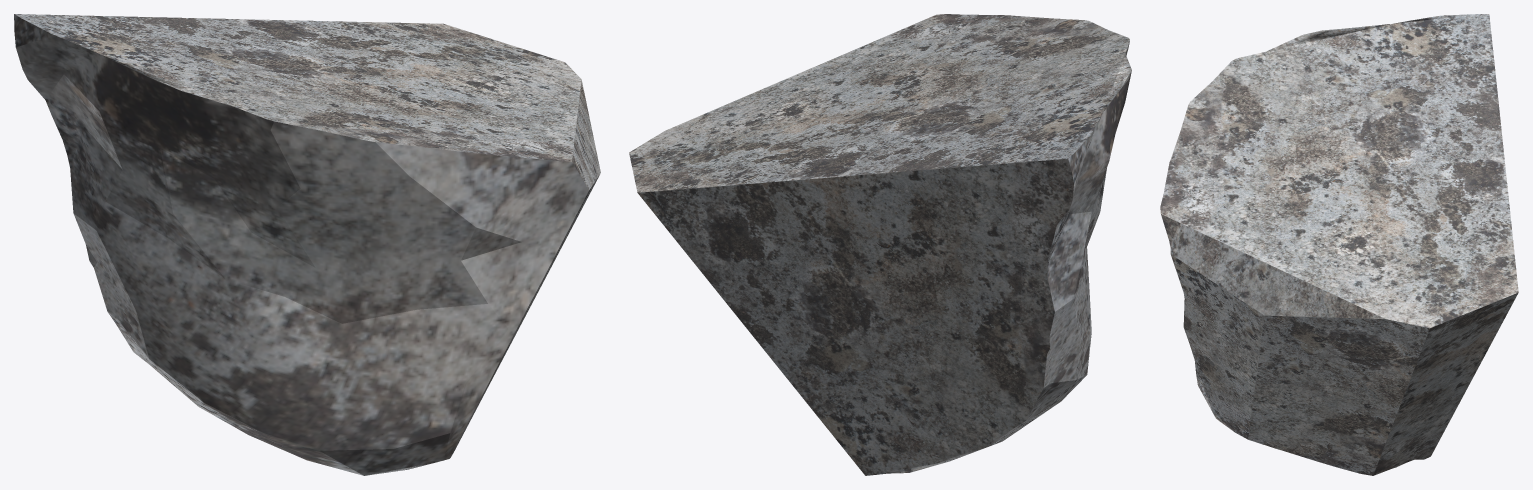
File: Asteroid_Large_001_02_002.fbx
3 views of the same model, side by side, from view 1: azimuth 30°, elevation 25°; view 2: azimuth 150°, elevation 25°; view 3: azimuth 270°, elevation 25° (orthographic). The views are drawn at different scales.
Parts seen in each view (by area): view 1: Asteroid_Large_001_02_002; view 2: Asteroid_Large_001_02_002; view 3: Asteroid_Large_001_02_002.
Boxes of the visible parts, x1,y1,x2,y2 form: Asteroid_Large_001_02_002: [14, 14, 600, 475]; Asteroid_Large_001_02_002: [629, 14, 1131, 475]; Asteroid_Large_001_02_002: [1160, 14, 1518, 475].
Size of the model in its own units: 27.55 by 22.27 by 20.94.
